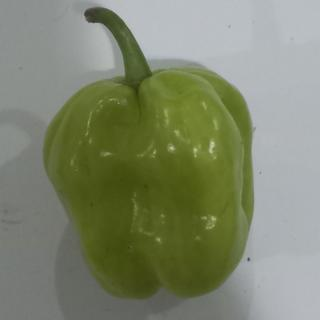Grade-A: (39, 63, 259, 303)
